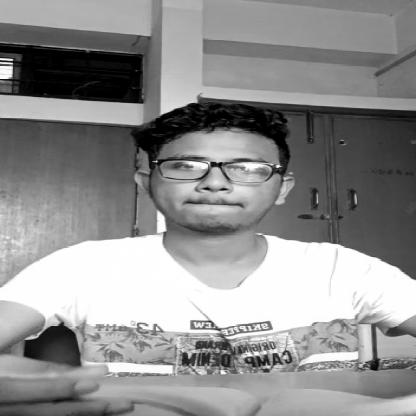Normal: (112, 107, 298, 223)
